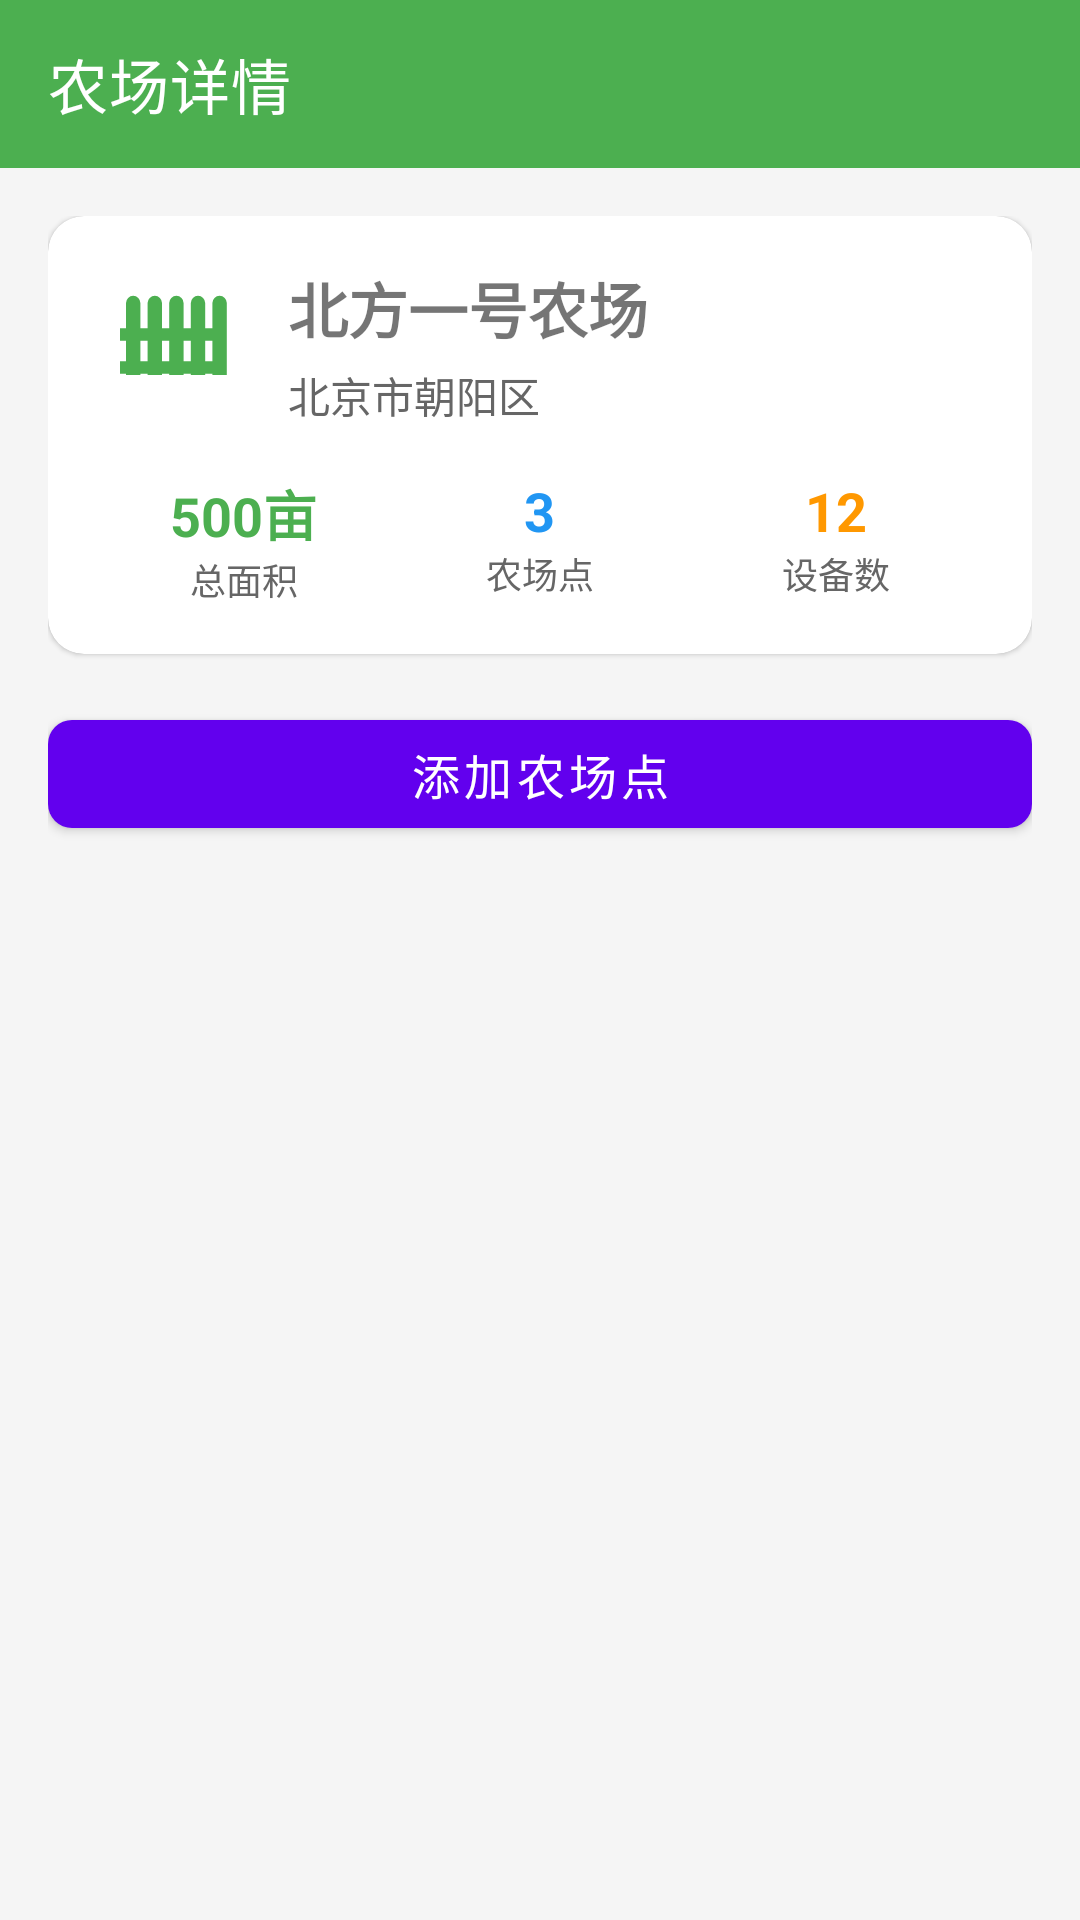

Where to tap for icons on this 1080x1920 app screen, as [x,y]:
农场图标: [173,335]
